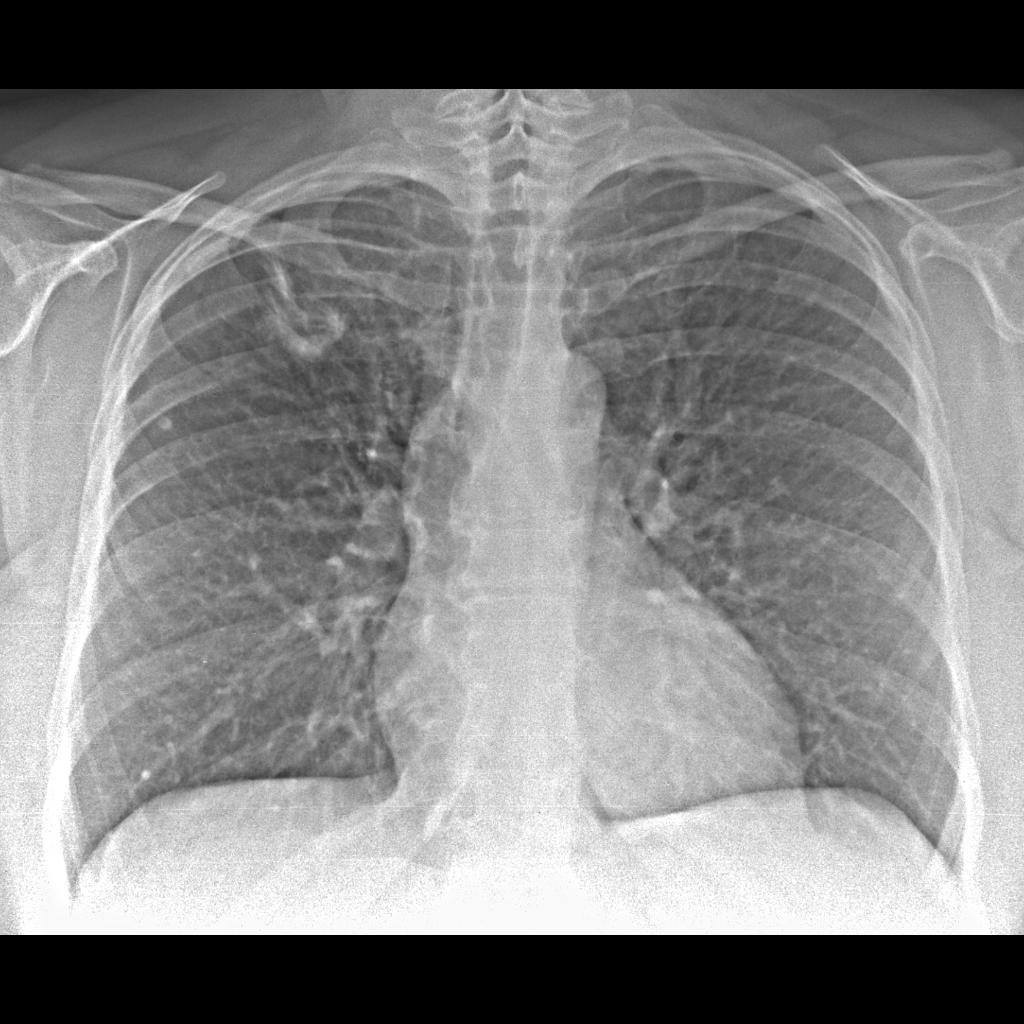Nodule: (261, 269, 351, 375)
